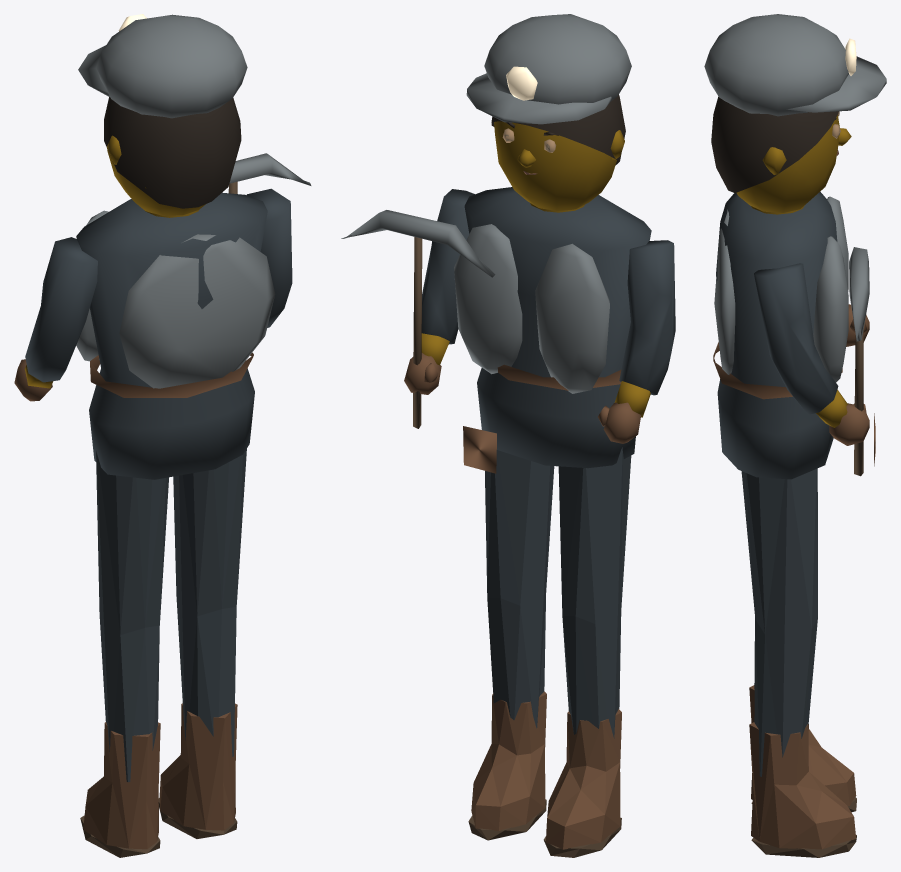
File: SM_NPC_GLACIAR_MEDIA.glb
The picture shows the model from 3 angles, left to right: view 1: azimuth 30°, elevation 25°; view 2: azimuth 150°, elevation 25°; view 3: azimuth 270°, elevation 25°; orthographic projection. The views are drawn at different scales.
Visible parts, largest first — view 1: SM_NPC_GLACIAR_BODY, SM_NPC_GLACIAR_HEAD, SM_NPC_GLACIAR_ARM_L, SM_NPC_GLACIAR_ARM_R; view 2: SM_NPC_GLACIAR_BODY, SM_NPC_GLACIAR_HEAD, SM_NPC_GLACIAR_ARM_R, SM_NPC_GLACIAR_ARM_L; view 3: SM_NPC_GLACIAR_BODY, SM_NPC_GLACIAR_HEAD, SM_NPC_GLACIAR_ARM_R, SM_NPC_GLACIAR_ARM_L.
Boxes of the visible parts, <box> form: SM_NPC_GLACIAR_BODY: <box>76,192,275,857</box>; SM_NPC_GLACIAR_HEAD: <box>78,14,247,215</box>; SM_NPC_GLACIAR_ARM_L: <box>14,237,97,401</box>; SM_NPC_GLACIAR_ARM_R: <box>228,153,311,327</box>; SM_NPC_GLACIAR_BODY: <box>454,187,651,857</box>; SM_NPC_GLACIAR_HEAD: <box>466,14,631,211</box>; SM_NPC_GLACIAR_ARM_R: <box>341,189,495,428</box>; SM_NPC_GLACIAR_ARM_L: <box>598,240,675,443</box>; SM_NPC_GLACIAR_BODY: <box>713,191,875,857</box>; SM_NPC_GLACIAR_HEAD: <box>704,14,886,212</box>; SM_NPC_GLACIAR_ARM_R: <box>754,247,869,476</box>; SM_NPC_GLACIAR_ARM_L: <box>846,304,869,346</box>.
Size of the model in its own units: 0.7359 by 1.87 by 0.3848.
